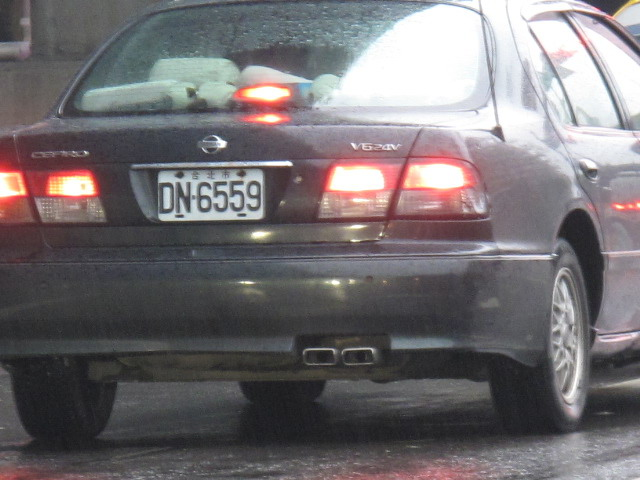plate: (153, 167, 269, 224)
